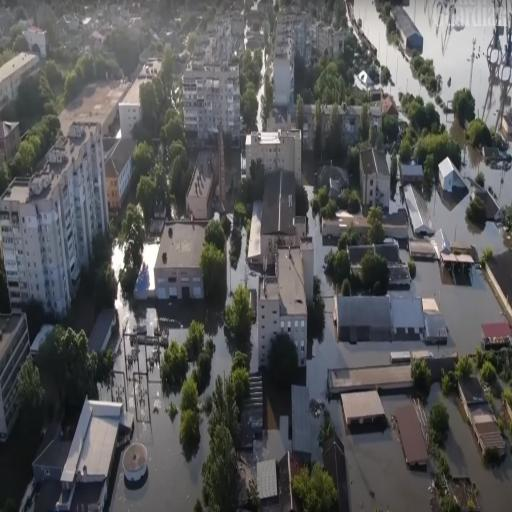flood: (307, 209, 432, 511), (109, 293, 231, 511), (426, 382, 512, 511), (408, 0, 495, 117), (412, 261, 503, 352), (438, 104, 512, 206), (355, 0, 430, 100), (430, 187, 511, 255), (227, 227, 259, 303), (97, 370, 128, 410), (485, 83, 501, 128), (250, 321, 258, 371)
house: (0, 120, 110, 316), (254, 244, 310, 372), (333, 290, 450, 350), (251, 171, 303, 265), (0, 310, 35, 445), (182, 69, 243, 145), (154, 220, 210, 302), (120, 54, 165, 138), (246, 133, 304, 188), (328, 362, 416, 396), (274, 12, 298, 108), (320, 104, 364, 156), (106, 134, 136, 209), (359, 148, 392, 214), (340, 393, 386, 436), (391, 7, 425, 53), (0, 52, 40, 90), (287, 100, 316, 152), (311, 20, 347, 58), (438, 157, 466, 197), (481, 324, 512, 351), (402, 162, 422, 183)
